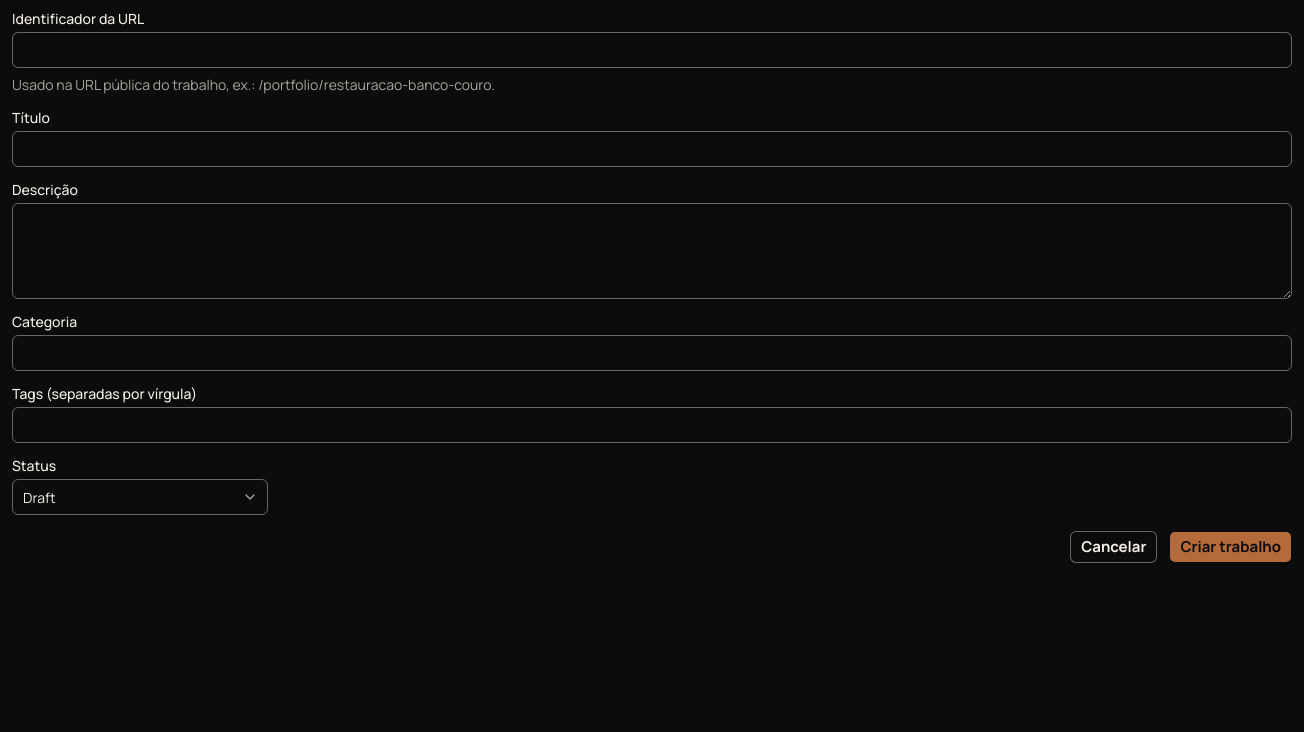
Scenario: CreateWorkForm › exibe mensagem amigável e não navega quando a API retorna 400
The width and height of the screenshot is (1304, 732).
Type " restauracao-fusca " into the field labelled "Identificador da URL" at {"x": 652, "y": 50}, box [12,32,1292,68]
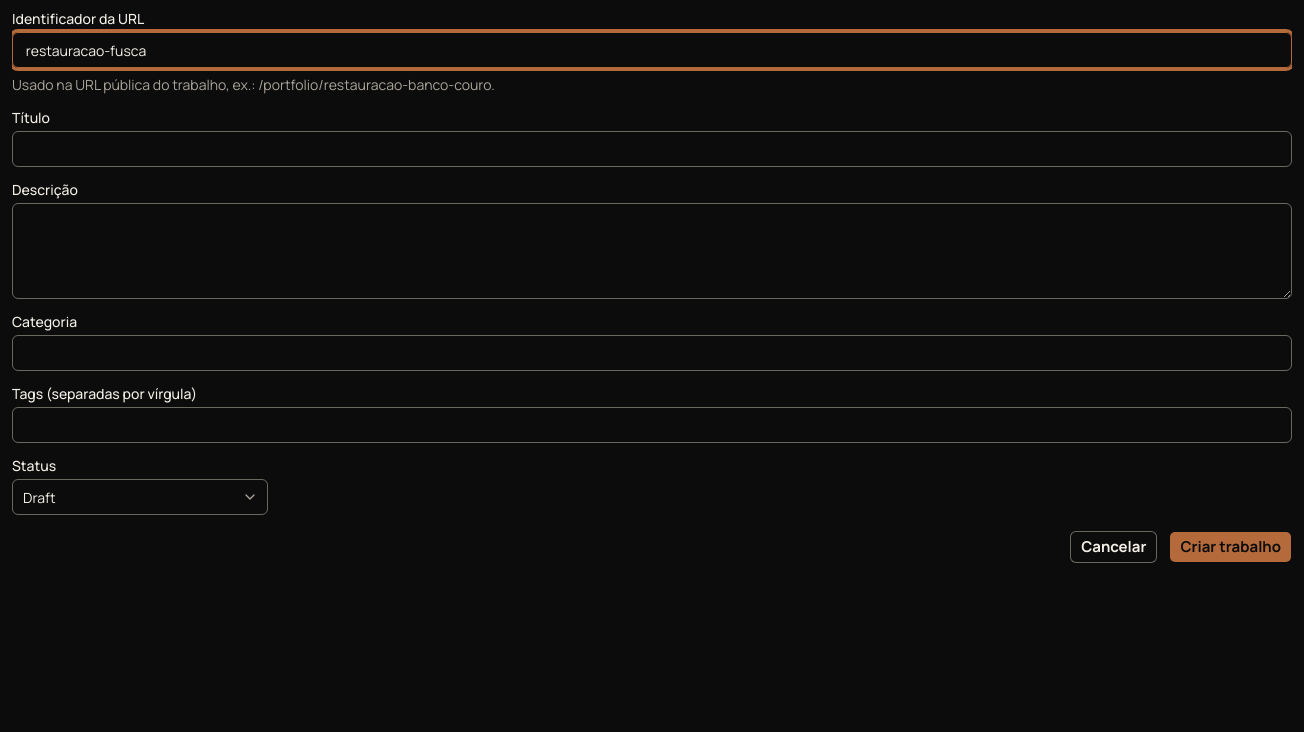
Type " Restauração Fusca " into the field labelled "Título" at {"x": 652, "y": 149}, box [12,131,1292,167]
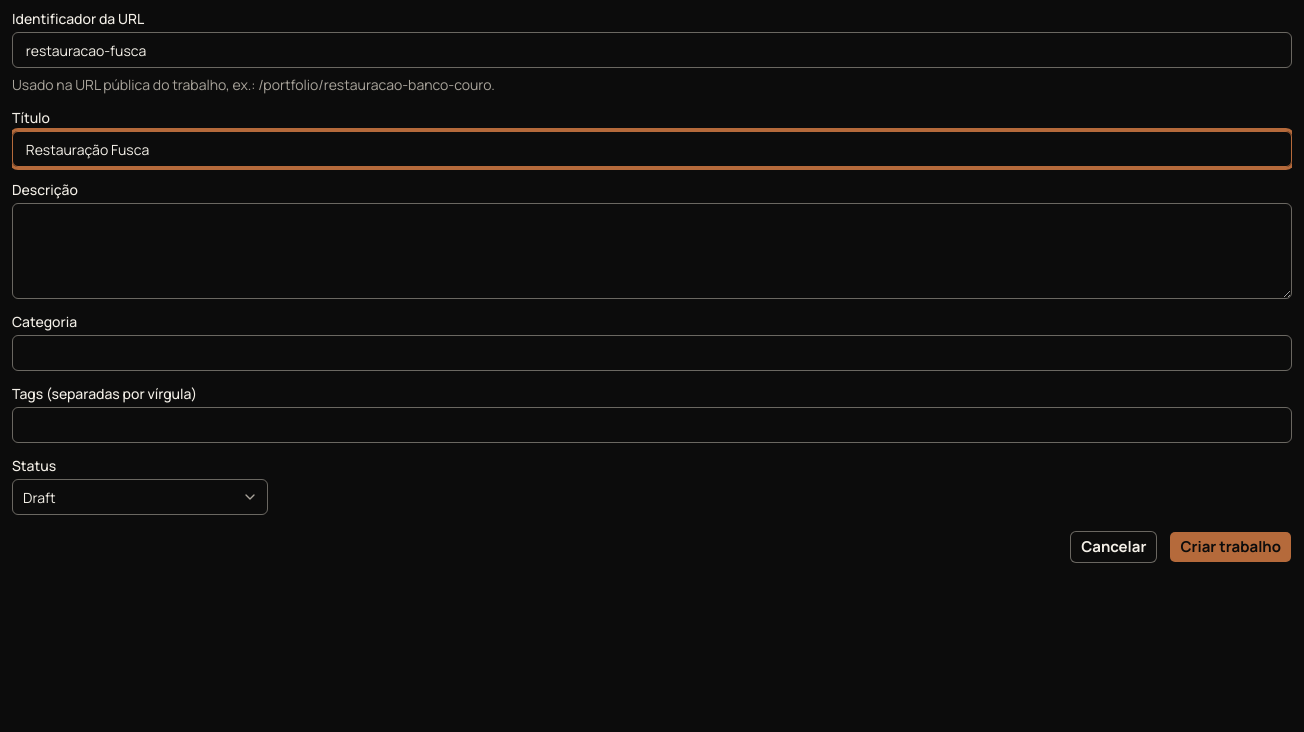
Type " Descrição completa do serviço. " into the text box labelled "Descrição" at {"x": 652, "y": 251}, box [12,203,1292,299]
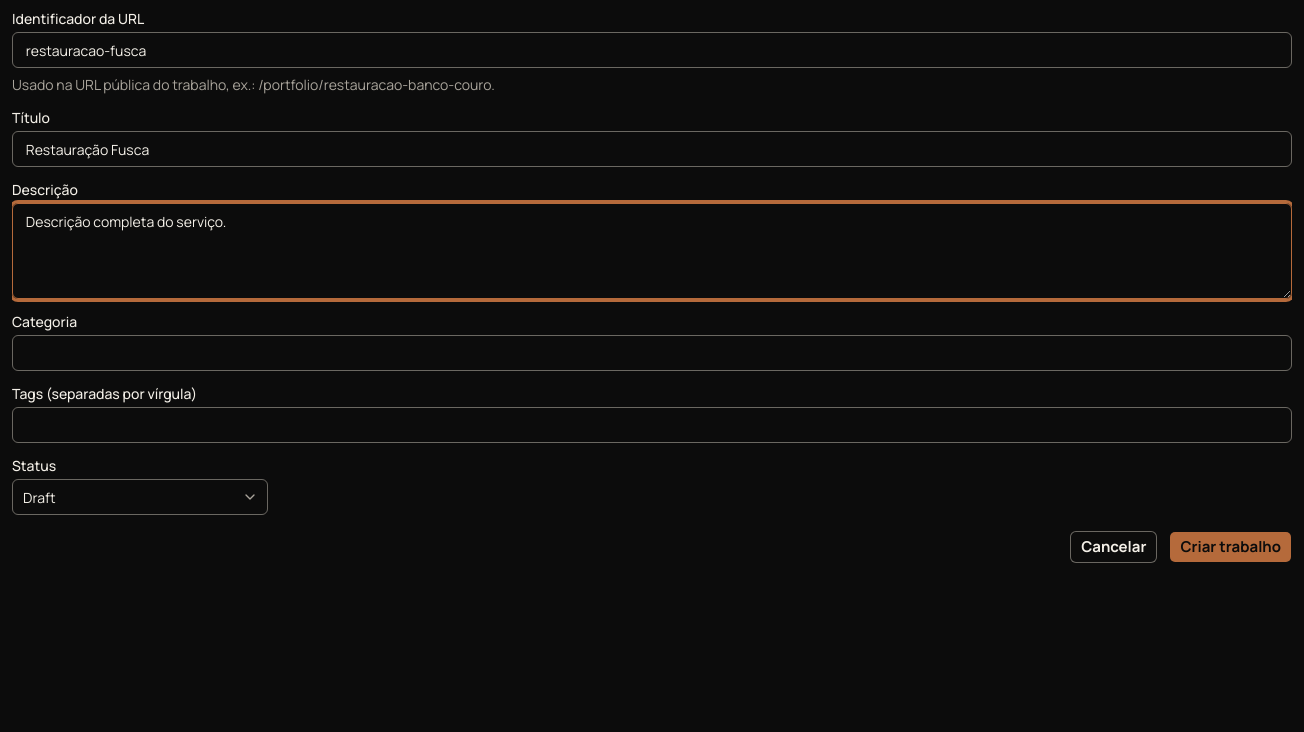
Type " Estofamento " into the field labelled "Categoria" at {"x": 652, "y": 353}, box [12,335,1292,371]
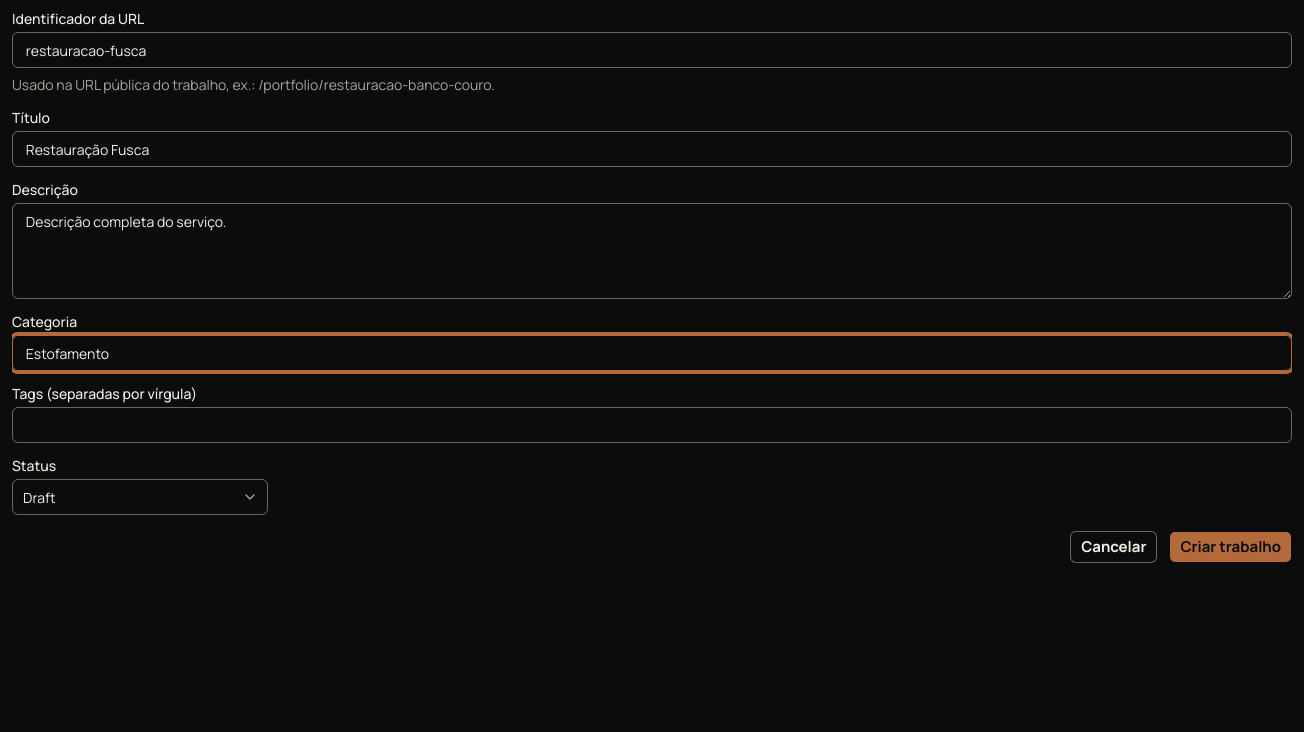
Type "fusca, restauracao" into the field labelled "Tags (separadas por vírgula)" at {"x": 652, "y": 425}, box [12,407,1292,443]
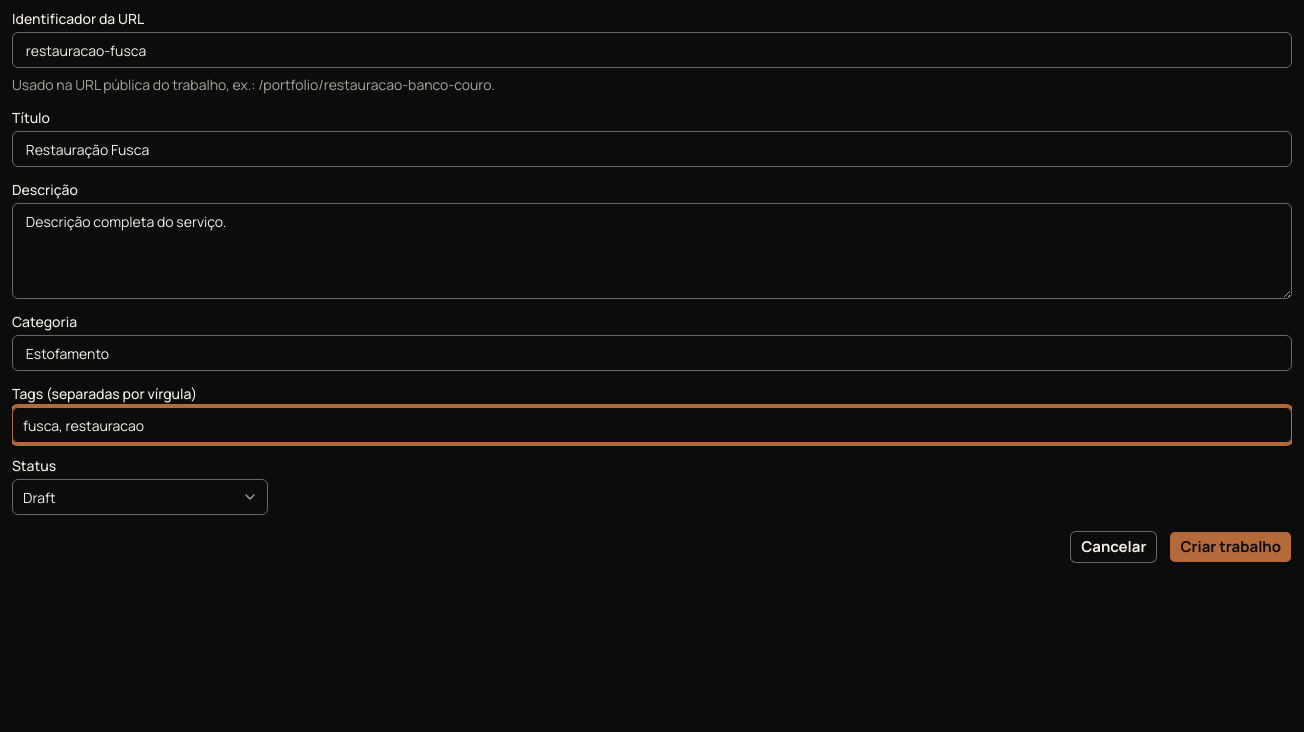
Click the button "Criar trabalho" at {"x": 1231, "y": 547}, box [1169,531,1292,563]
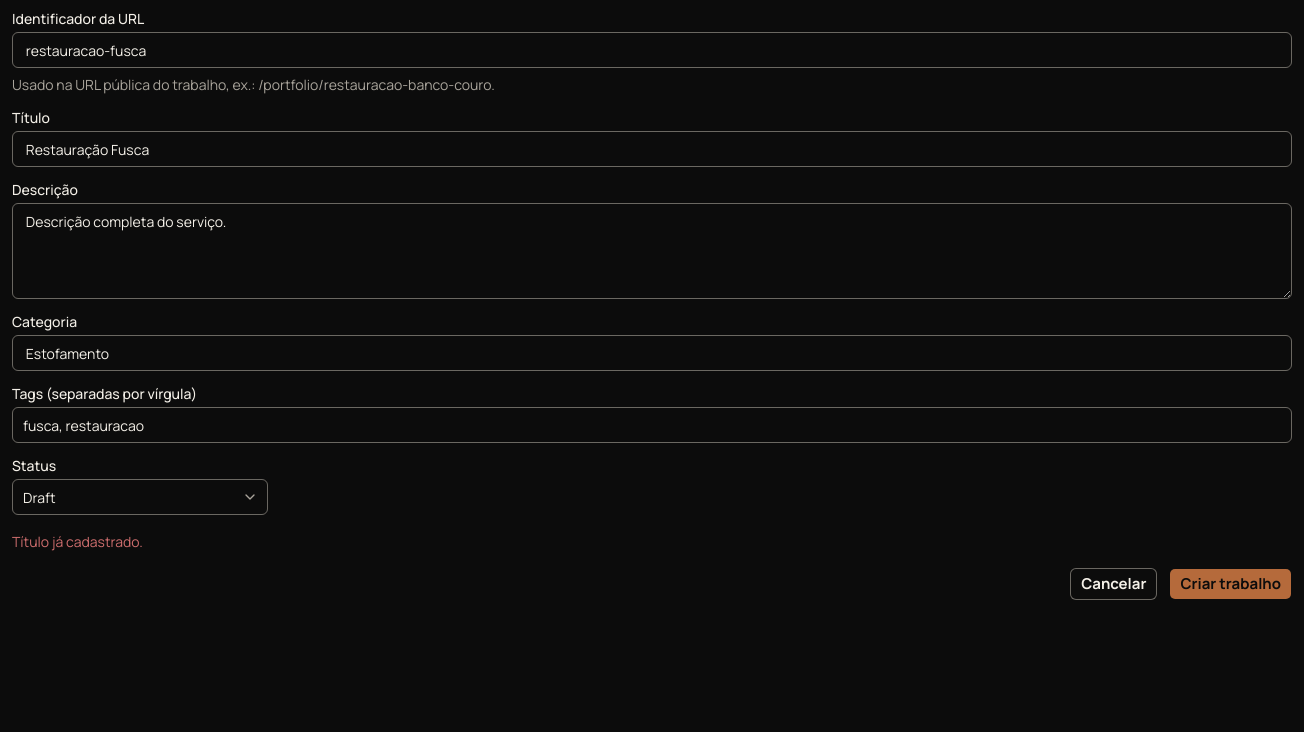
Result: the message reads "Título já cadastrado." at [12,532,143,551]
